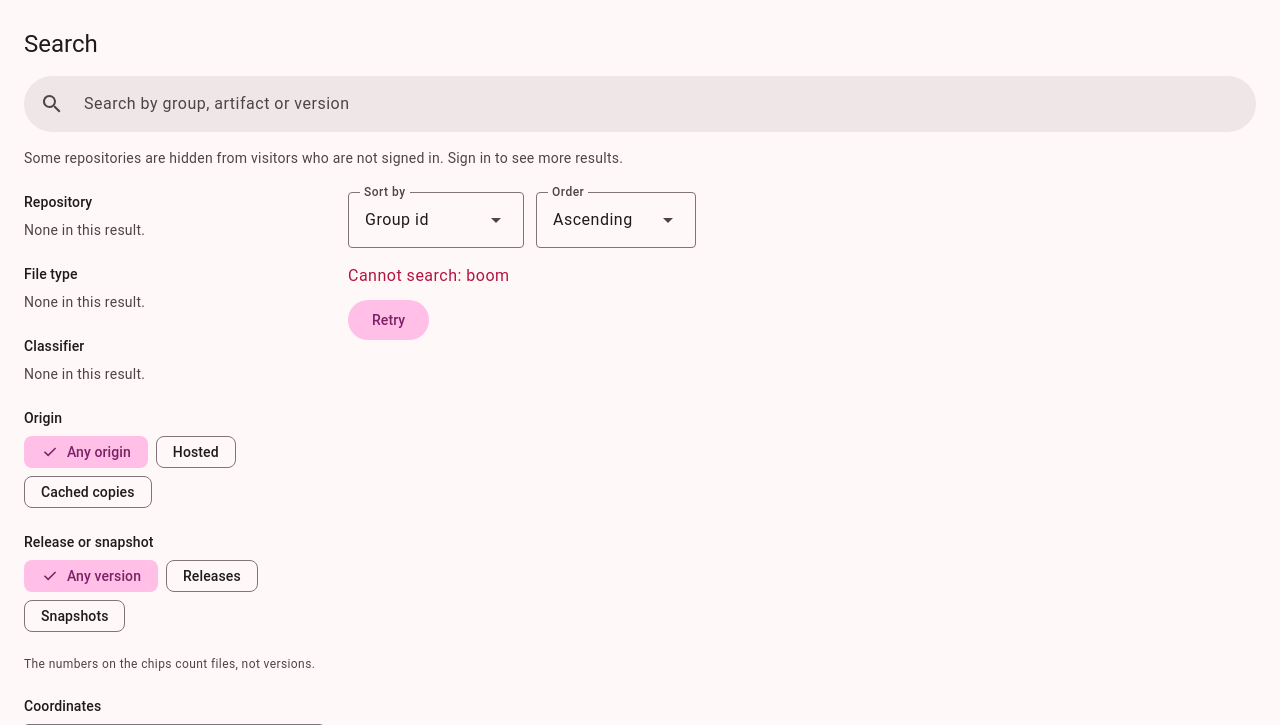
SearchView states › shows the message of the failure with a retry that asks again
The image size is (1280, 725).
Expected: the element with test id "failure" shows "Cannot search", [348, 266, 510, 285]
What coordinates should you click on to do the following:
click the button with test id "retry"
I would click on:
 (389, 320)
Its box is [348, 300, 429, 340].
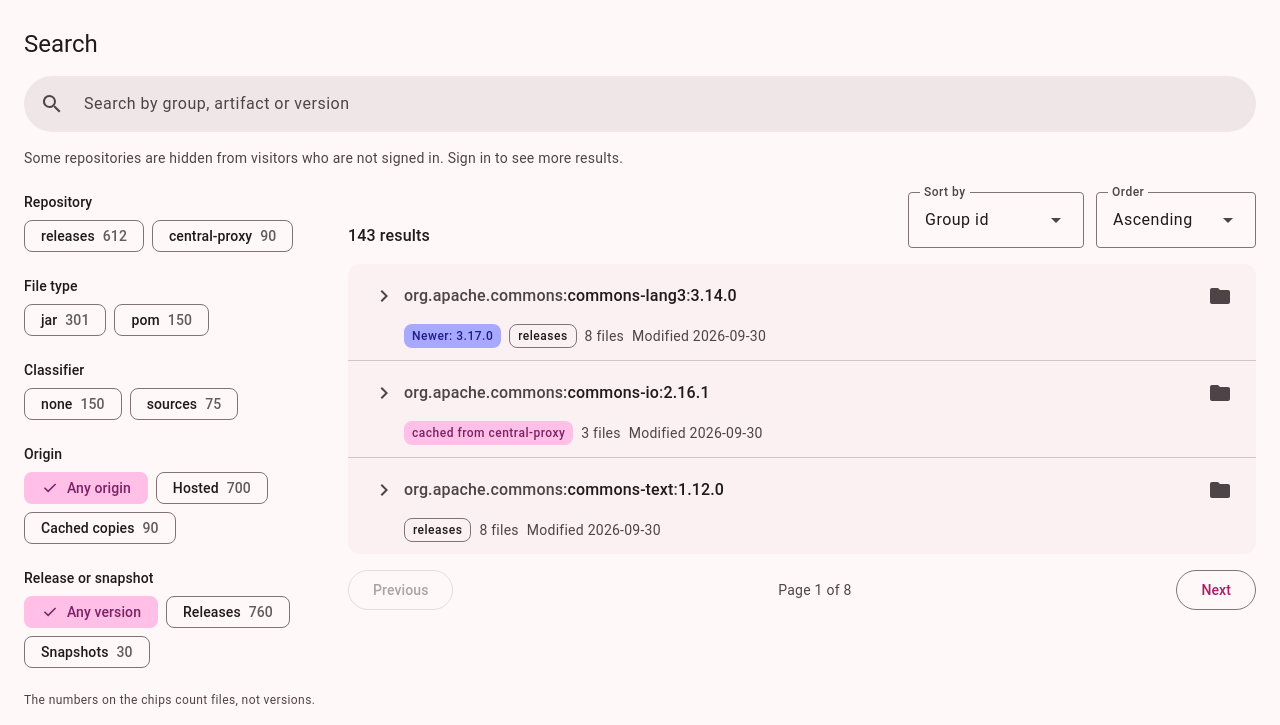
Result: the number of list items with test id "result" is 3 at [348, 264, 1256, 361]; [348, 361, 1256, 458]; [348, 458, 1256, 554]
